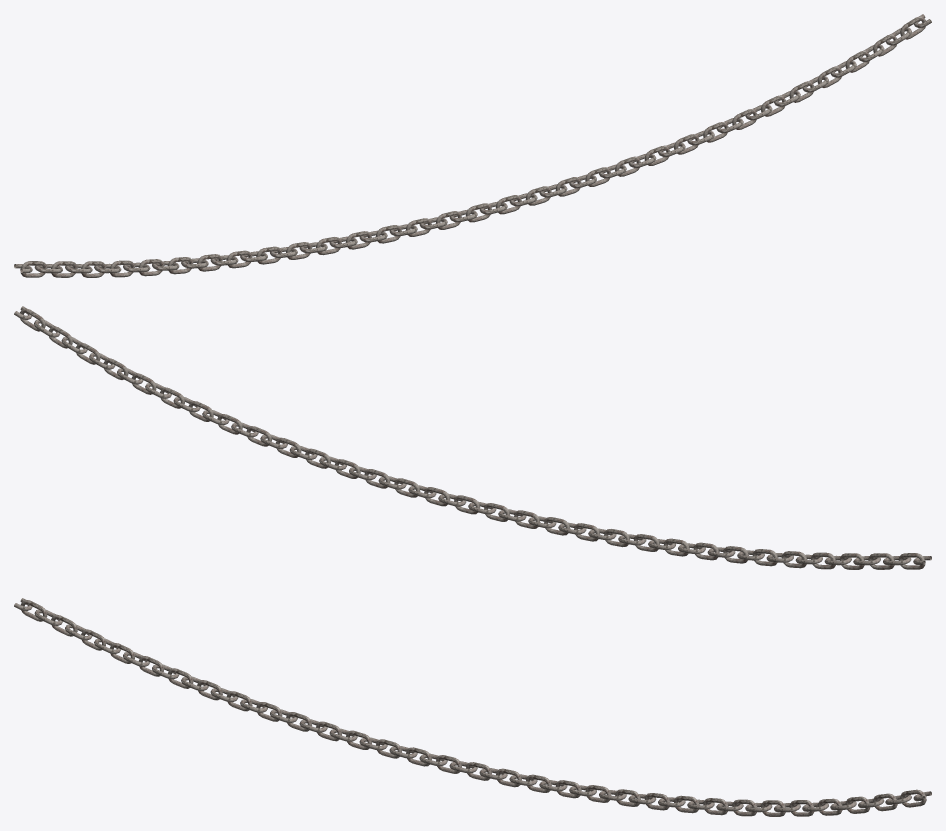
Rendered from Chain Blocker .fbx.
The picture shows the model from 3 angles, top to bottom: view 1: azimuth 30°, elevation 25°; view 2: azimuth 150°, elevation 25°; view 3: azimuth 330°, elevation 25°; orthographic projection.
Visible parts, largest first — view 1: Torus.004; view 2: Torus.004; view 3: Torus.004.
Boxes of the visible parts, bbox=[...] form: Torus.004: bbox=[14, 14, 931, 277]; Torus.004: bbox=[14, 306, 931, 569]; Torus.004: bbox=[14, 598, 931, 816].
Size of the model in its own units: 229 by 23.36 by 3.83.
